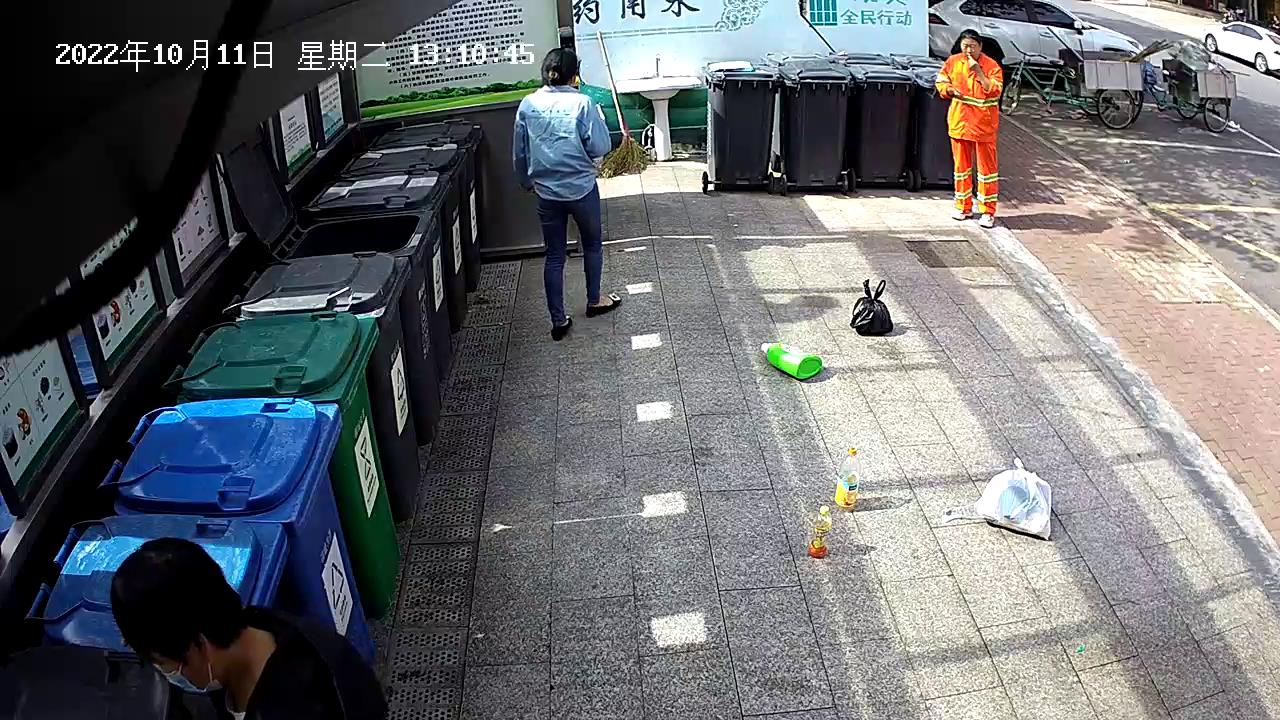garbage-bag: (971, 456, 1055, 541), (848, 277, 896, 337)
person: (108, 535, 392, 720)
suliaozhipin: (759, 337, 826, 382), (832, 444, 862, 509), (808, 502, 834, 559)
worker: (511, 45, 624, 342), (933, 28, 1004, 229)
